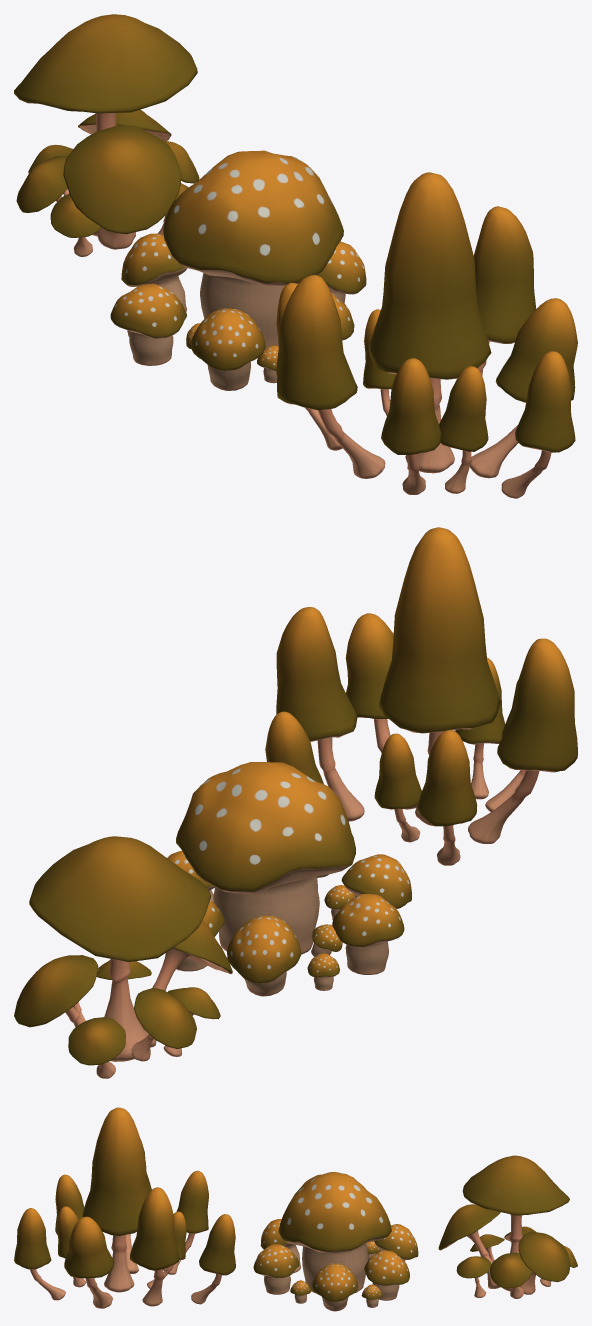
Rendered from funghi_set2.fbx.
The picture shows the model from 3 angles, top to bottom: view 1: azimuth 30°, elevation 25°; view 2: azimuth 150°, elevation 25°; view 3: azimuth 270°, elevation 25°; orthographic projection. The views are drawn at different scales.
Parts seen in each view (by area): view 1: muchrooms2, muchrooms1, muchrooms3; view 2: muchrooms2, muchrooms1, muchrooms3; view 3: muchrooms2, muchrooms1, muchrooms3.
Boxes of the visible parts, box(x1,y1,x2,y2) form: muchrooms2: box(276, 172, 577, 498); muchrooms1: box(110, 150, 366, 390); muchrooms3: box(14, 14, 199, 256); muchrooms2: box(265, 527, 577, 865); muchrooms1: box(167, 762, 411, 996); muchrooms3: box(14, 836, 232, 1078); muchrooms2: box(14, 1107, 235, 1308); muchrooms1: box(253, 1172, 418, 1311); muchrooms3: box(438, 1155, 577, 1298).
Size of the model in its own units: 37.04 by 39.36 by 108.
